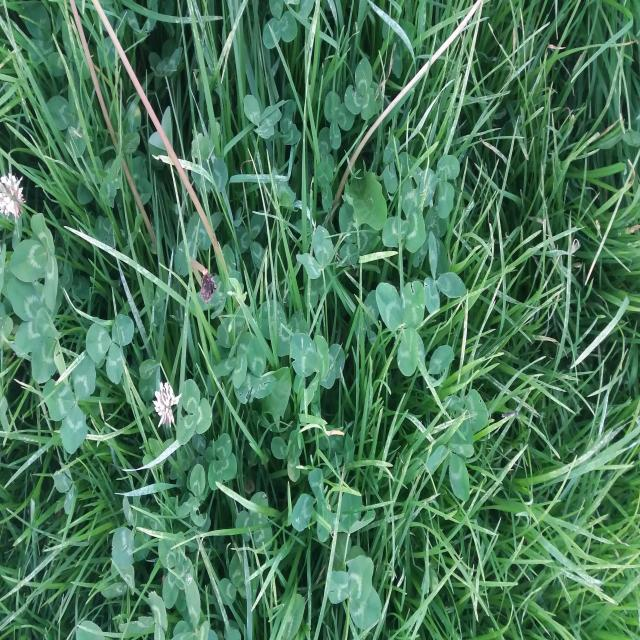Four Leaf Clover: (158, 530, 194, 609)
